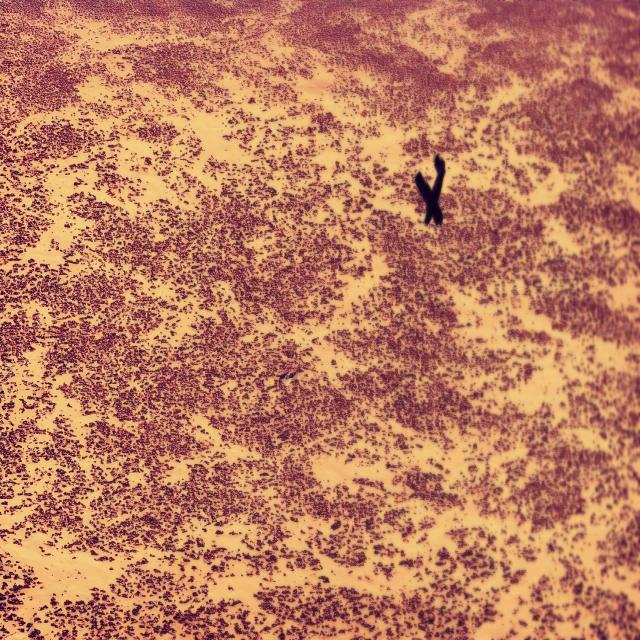airplane: (414, 153, 446, 226)
